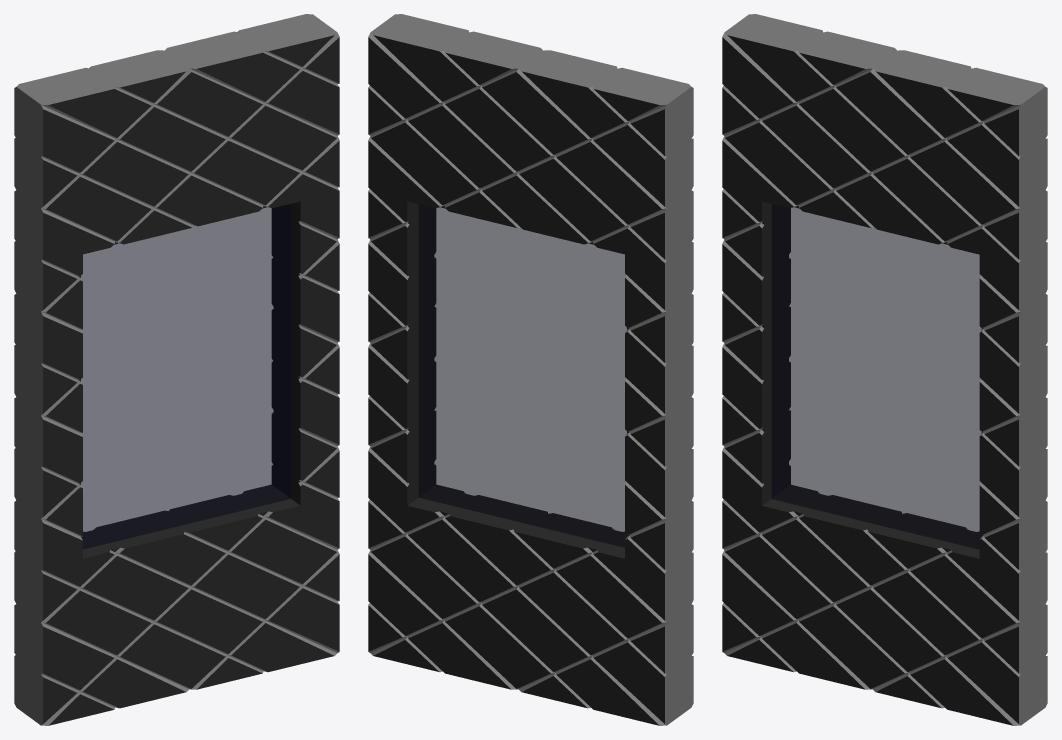
Rendered from DiagonalTileWindow.glb.
3 renders of one model, left to right at view 1: azimuth 30°, elevation 25°; view 2: azimuth 150°, elevation 25°; view 3: azimuth 330°, elevation 25°, orthographic.
Visible parts, largest first — view 1: wall_diagonalTile_window; view 2: wall_diagonalTile_window; view 3: wall_diagonalTile_window.
Part boxes in pixels (x1=…): wall_diagonalTile_window: x1=14, y1=14, x2=339, y2=725; wall_diagonalTile_window: x1=368, y1=14, x2=693, y2=725; wall_diagonalTile_window: x1=722, y1=14, x2=1047, y2=725.
Size of what is drawn, in the model's own units: 2 by 4 by 0.3377.
Materials: 2 (2 with a texture image).
